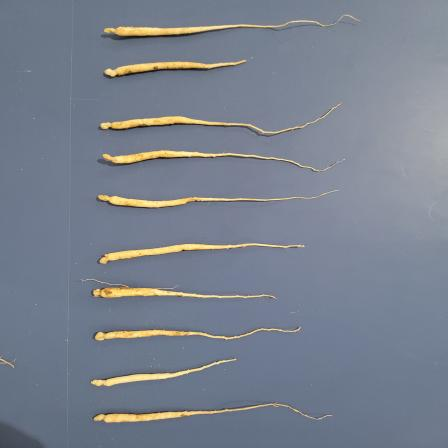Ginseng: (95, 101, 343, 137), (99, 13, 362, 40), (100, 149, 347, 173), (90, 401, 336, 425), (94, 242, 306, 266), (94, 189, 340, 209), (89, 357, 238, 389), (89, 325, 305, 342), (88, 285, 282, 302), (101, 58, 248, 79)
head: (90, 377, 112, 388), (96, 194, 119, 204), (92, 414, 114, 424), (103, 26, 123, 36), (102, 153, 120, 164), (92, 288, 110, 298), (93, 331, 111, 341), (99, 254, 114, 264), (100, 121, 116, 130), (103, 68, 118, 77)
